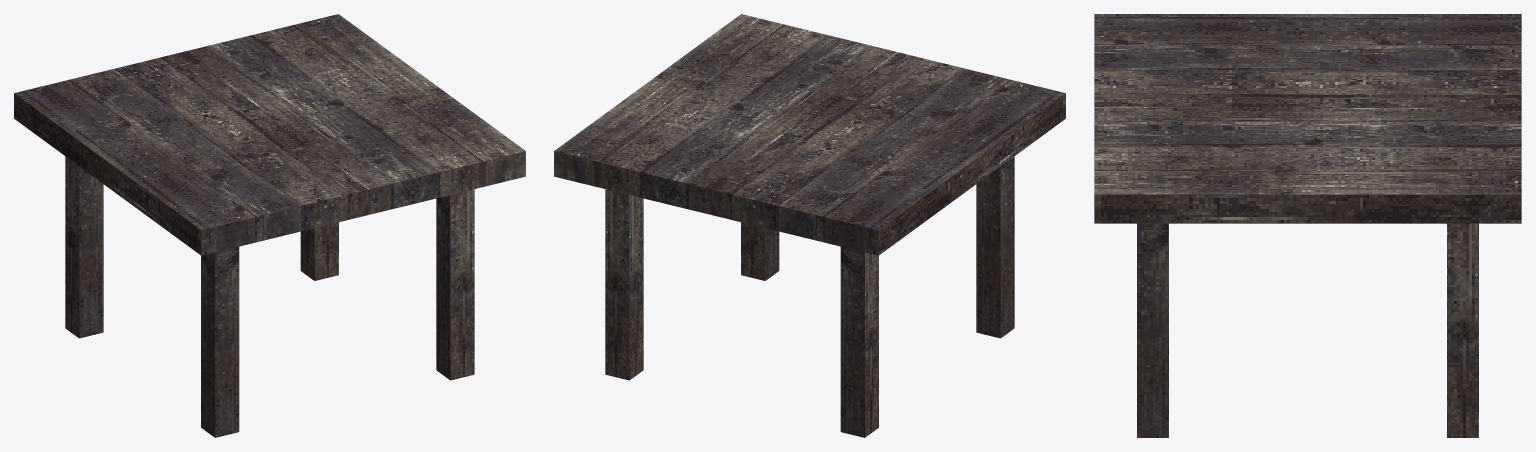
Rendered from table_s.glb.
The picture shows the model from 3 angles, left to right: view 1: azimuth 30°, elevation 25°; view 2: azimuth 150°, elevation 25°; view 3: azimuth 270°, elevation 25°; orthographic projection. The views are drawn at different scales.
Parts seen in each view (by area): view 1: Table Small; view 2: Table Small; view 3: Table Small.
Boxes of the visible parts, box(x1,y1,x2,y2) form: Table Small: box(14, 14, 525, 437); Table Small: box(554, 14, 1065, 437); Table Small: box(1094, 14, 1521, 437).
Size of the model in its own units: 1 by 0.675 by 1.
1 material, 1 textured.
